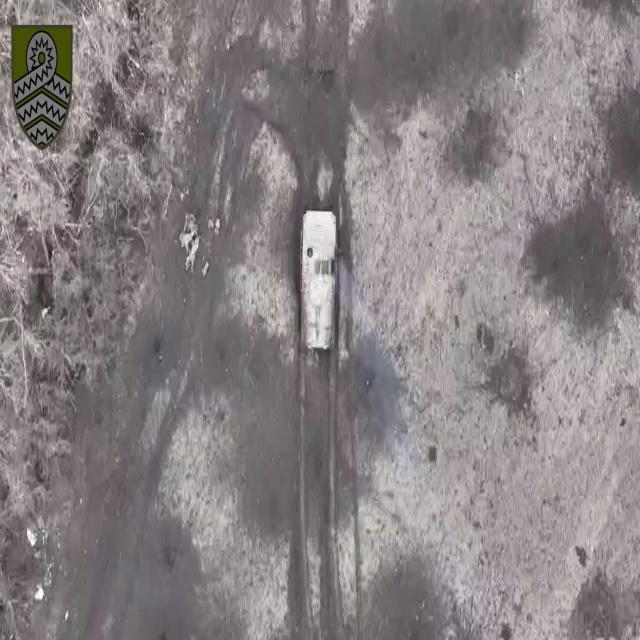ART: (300, 209, 337, 350)
